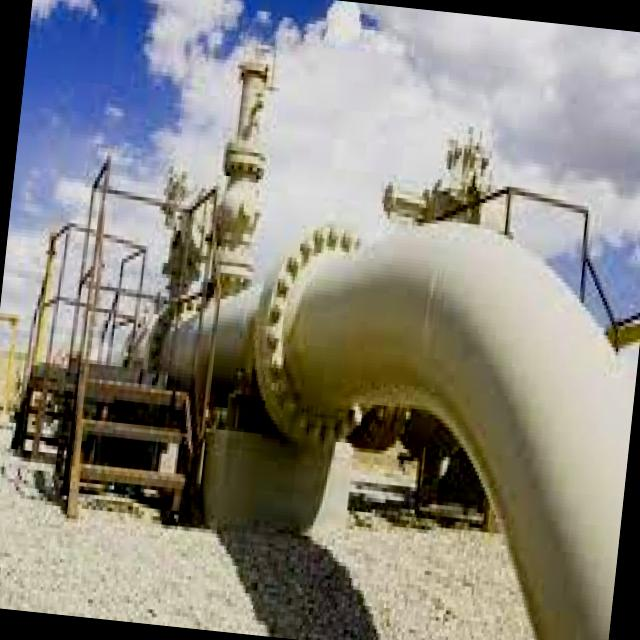gas: (283, 235, 636, 640), (210, 284, 261, 402), (160, 317, 198, 389), (197, 298, 214, 382)
